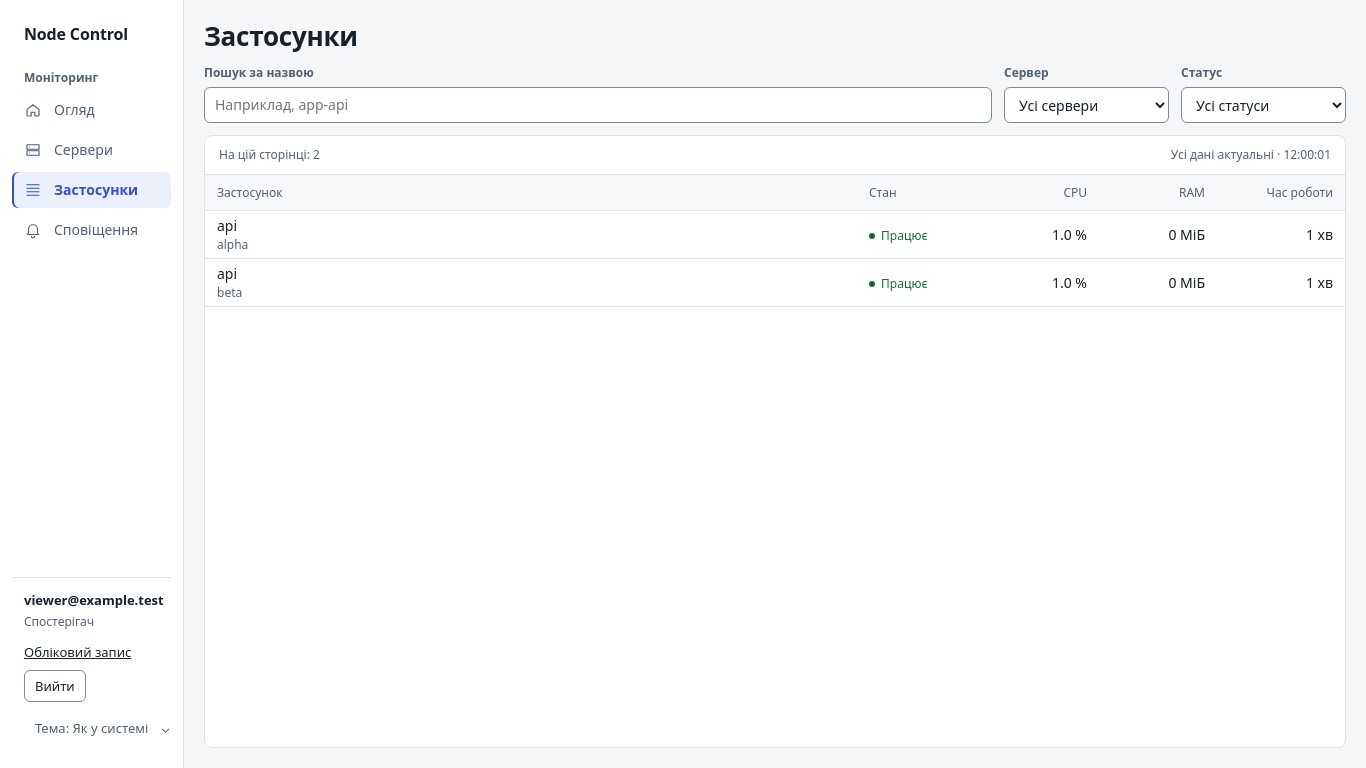
Test: applications workspace: actions › viewer: commands disabled with the reason, no capability requests (also with a process selected)
Click the button "api alpha Працює 1.0 % 0 МіБ 1 хв" at (233, 244), box [205,211,1345,258]
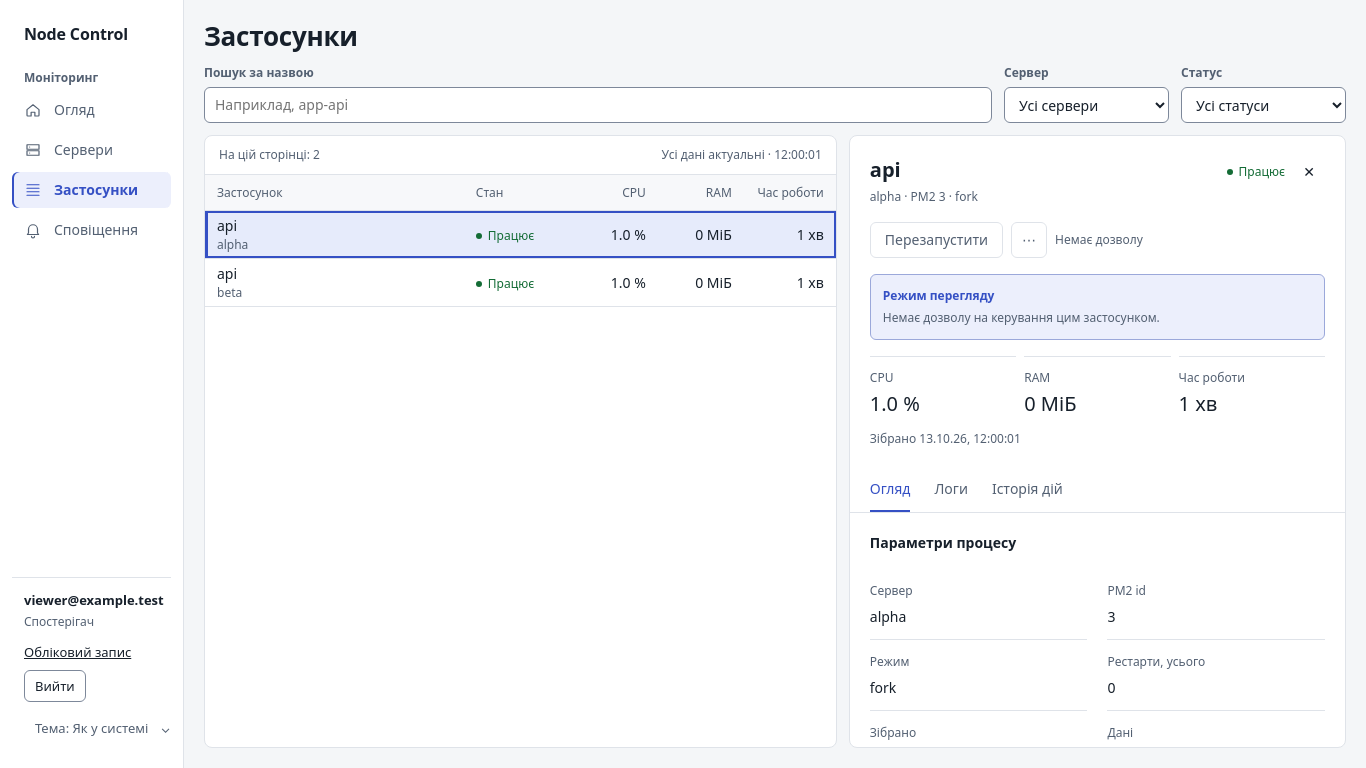
Expected: the button named "Дії:" is disabled, [1011,222,1047,258]
Now the text "Немає дозволу" is shown, box [1055,231,1143,249]
